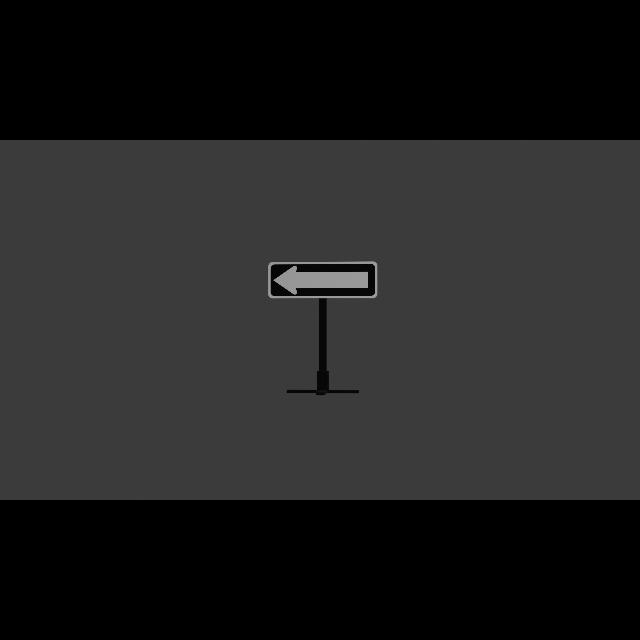sign_oneway_left: (268, 263, 380, 302)
